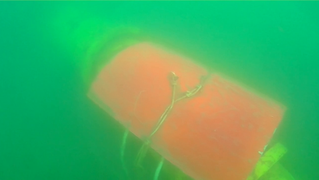4: (64, 15, 90, 34)
leak: (86, 42, 285, 180)
pipe: (43, 1, 143, 92), (246, 136, 297, 180), (148, 147, 193, 180)
